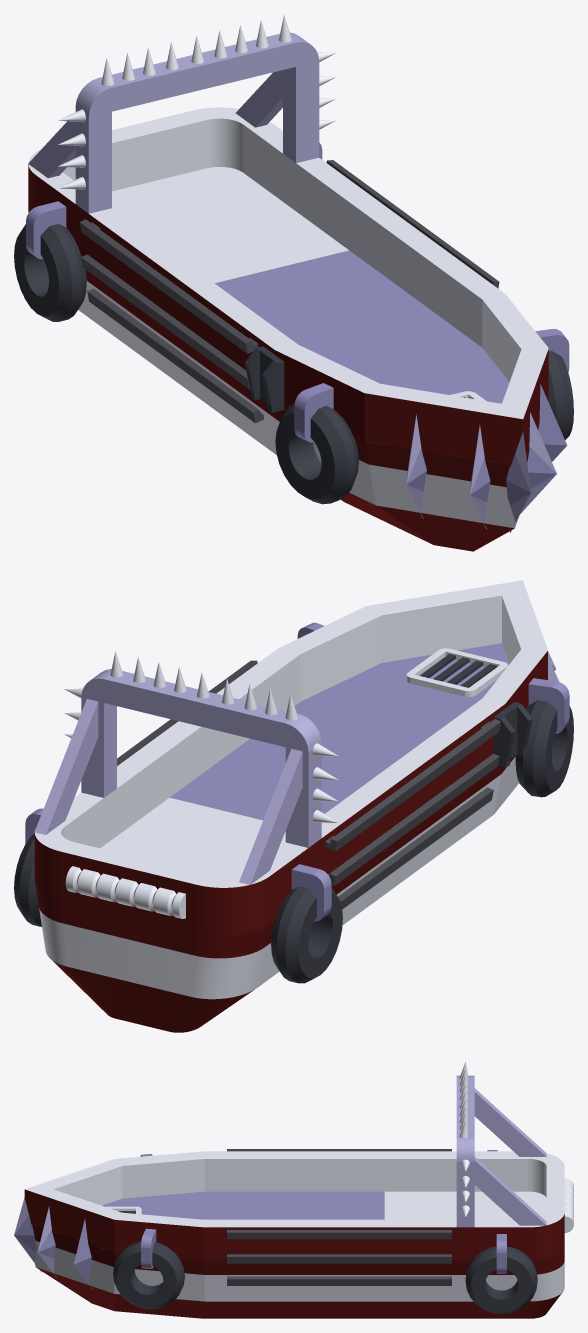
Rendered from boat medium enemy.fbx.
3 views of the same model, one above another, from view 1: azimuth 30°, elevation 25°; view 2: azimuth 150°, elevation 25°; view 3: azimuth 270°, elevation 25° (orthographic). The views are drawn at different scales.
Visible parts, largest first — view 1: hull_half, rail_back, rail_front, hull_halfBack, detail_rollbar, detail_tireAttachment (×3), hull_halfFront, rail, detail_fence_support (×4), blade_dual_top (×5), detailTargetSight; view 2: hull_halfBack, rail_back, detail_rollbar, rail_front, hull_half, detail_tireAttachment (×3), rail, detail_fence_support (×4), hull_halfFront, detail_pipeRibbed, grate_square, detailTargetSight; view 3: hull_half, rail, rail_front, rail_back, hull_halfBack, hull_halfFront, detail_fence_support (×4), detail_tireAttachment (×2), detail_rollbar, blade_dual_top (×3), detail_pipeRibbed.
Part boxes in pixels (x1=…): hull_half: x1=144, y1=250, x2=481, y2=454; rail_back: x1=28, y1=107, x2=371, y2=293; rail_front: x1=275, y1=294, x2=548, y2=465; hull_halfBack: x1=78, y1=167, x2=348, y2=364; detail_rollbar: x1=28, y1=32, x2=319, y2=213; detail_tireAttachment (×3): x1=14, y1=201, x2=573, y2=504; hull_halfFront: x1=277, y1=348, x2=548, y2=551; rail: x1=142, y1=196, x2=504, y2=369; detail_fence_support (×4): x1=79, y1=160, x2=499, y2=422; blade_dual_top (×5): x1=406, y1=384, x2=567, y2=532; detailTargetSight: x1=244, y1=346, x2=284, y2=412; hull_halfBack: x1=35, y1=797, x2=371, y2=1032; rail_back: x1=34, y1=744, x2=373, y2=935; detail_rollbar: x1=34, y1=669, x2=321, y2=884; rail_front: x1=278, y1=580, x2=547, y2=709; hull_half: x1=170, y1=701, x2=502, y2=910; detail_tireAttachment (×3): x1=14, y1=678, x2=573, y2=983; rail: x1=147, y1=648, x2=505, y2=840; detail_fence_support (×4): x1=117, y1=660, x2=501, y2=909; hull_halfFront: x1=301, y1=643, x2=519, y2=813; detail_pipeRibbed: x1=65, y1=866, x2=185, y2=918; grate_square: x1=406, y1=648, x2=508, y2=697; detailTargetSight: x1=493, y1=702, x2=532, y2=767; hull_half: x1=204, y1=1191, x2=384, y2=1318; rail: x1=204, y1=1151, x2=384, y2=1259; rail_front: x1=24, y1=1151, x2=204, y2=1259; rail_back: x1=384, y1=1151, x2=564, y2=1259; hull_halfBack: x1=384, y1=1191, x2=564, y2=1318; hull_halfFront: x1=31, y1=1191, x2=204, y2=1318; detail_fence_support (×4): x1=227, y1=1149, x2=451, y2=1285; detail_tireAttachment (×2): x1=113, y1=1228, x2=537, y2=1313; detail_rollbar: x1=456, y1=1075, x2=546, y2=1227; blade_dual_top (×3): x1=14, y1=1197, x2=92, y2=1289; detail_pipeRibbed: x1=564, y1=1178, x2=573, y2=1232.
Size of the model in its own units: 19.26 by 19.53 by 46.65.
